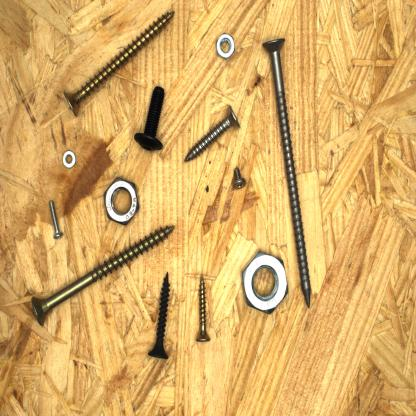screw: (25, 220, 178, 331), (258, 30, 316, 312), (61, 6, 178, 119), (183, 100, 246, 164), (132, 81, 170, 155), (145, 267, 173, 363), (190, 268, 214, 344), (46, 196, 66, 242), (227, 164, 252, 194)
